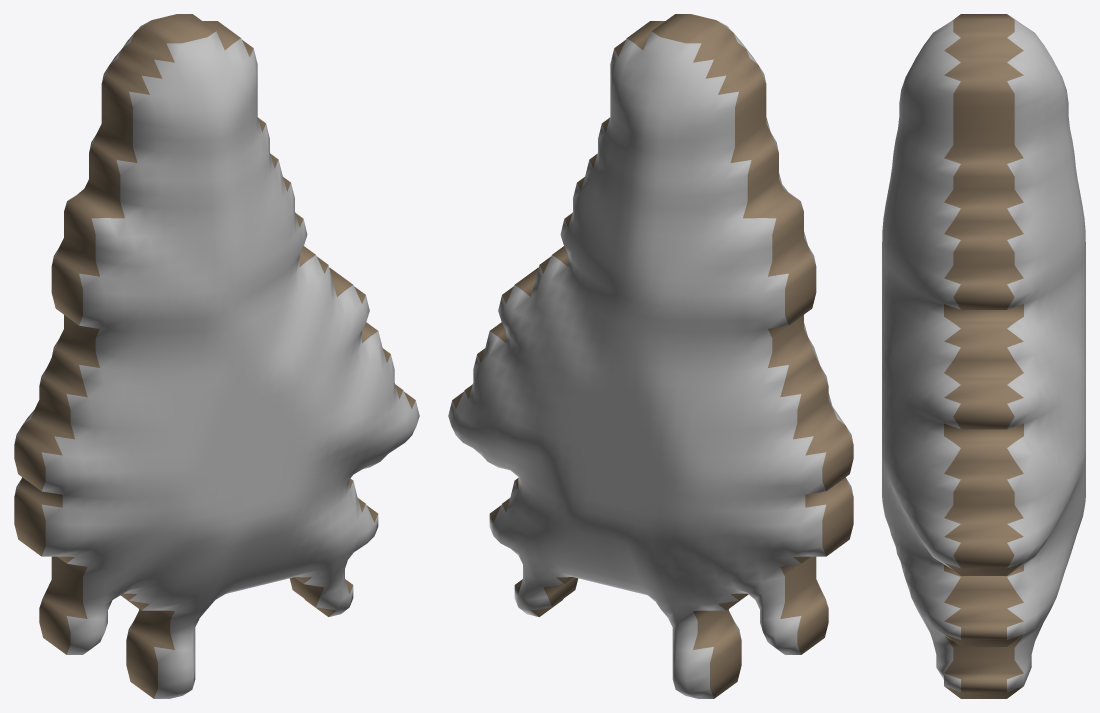
The model's file is doll_yellow.glb.
3 views of the same model, side by side, from view 1: azimuth 30°, elevation 25°; view 2: azimuth 150°, elevation 25°; view 3: azimuth 270°, elevation 25° (orthographic).
Visible parts, largest first — view 1: doll_yellow; view 2: doll_yellow; view 3: doll_yellow.
Part boxes in pixels (x1,y1,x2,y2): doll_yellow: [14, 14, 419, 698]; doll_yellow: [448, 14, 853, 698]; doll_yellow: [882, 14, 1085, 698].
Size of the model in its own units: 0.2308 by 0.3846 by 0.111.
